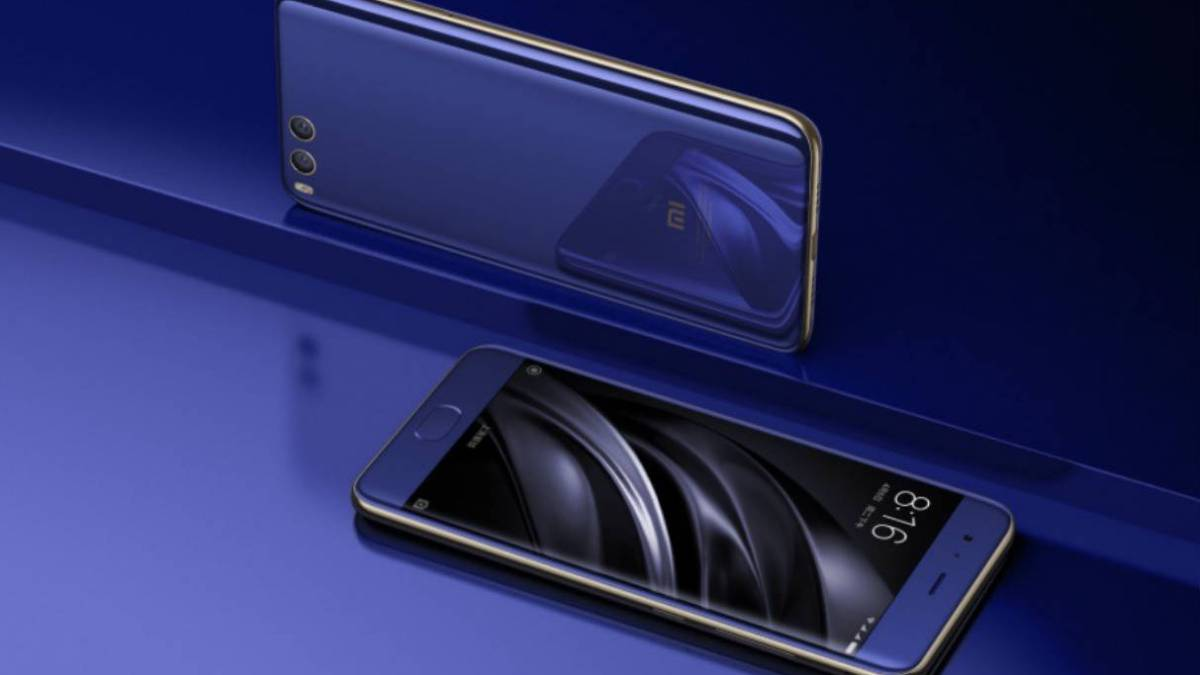smartphone: (352, 345, 1016, 675), (276, 1, 824, 355)
